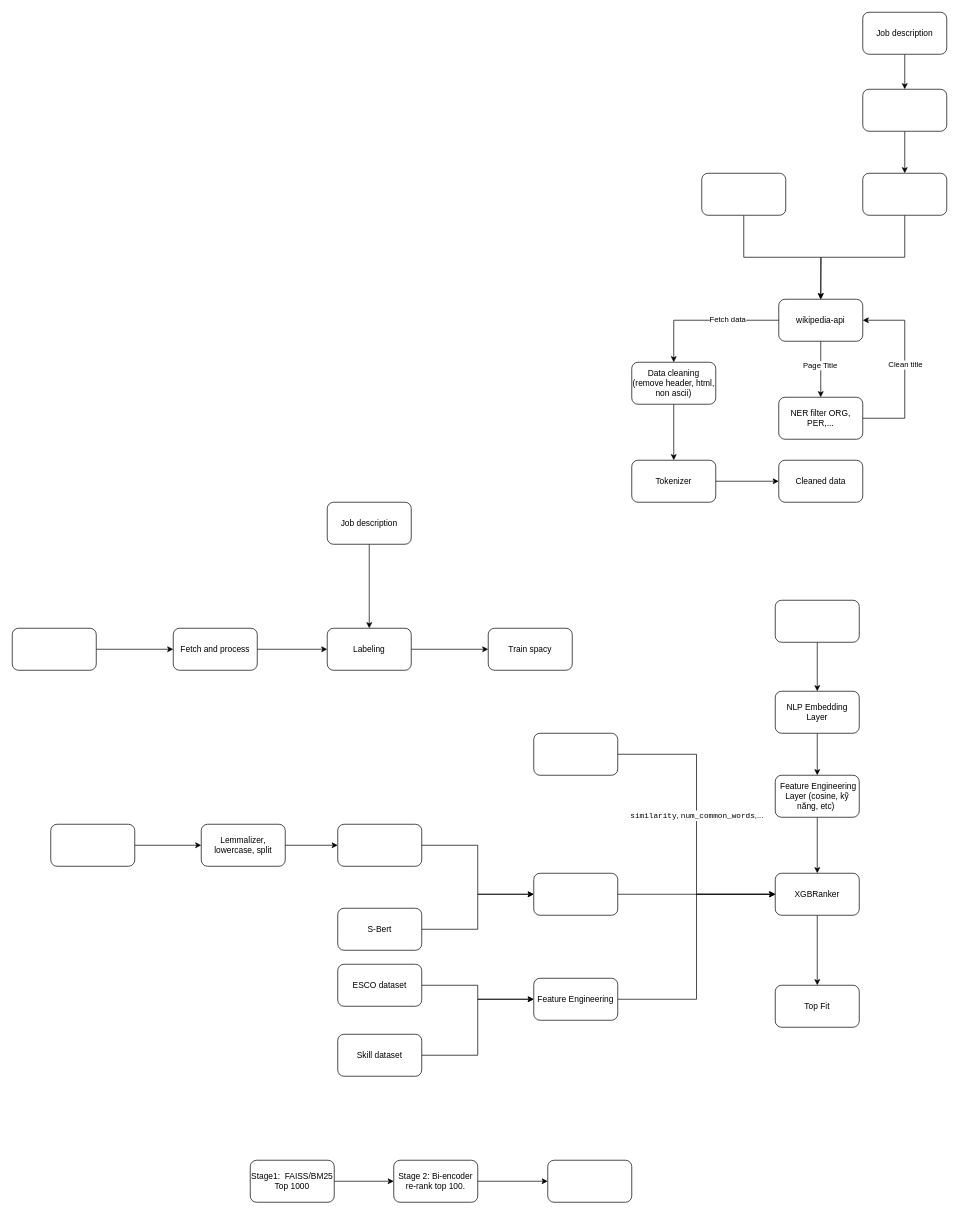
The diagram is 959 pixels wide and 1215 high, and some of its shapes have lost their labels. Here are the shapes that lost their labels. From the top down, the box of each, then its label:
(862, 89, 947, 131): n-grams
(701, 173, 786, 215): Job role
(862, 173, 947, 215): eliminate redundant data
(775, 600, 859, 642): CV-JD
(12, 628, 96, 670): Lightcast dataset
(533, 733, 618, 775): TF-IDF
(50, 824, 135, 866): DataSet
(337, 824, 422, 866): Train word embedding
(533, 873, 618, 915): Sentence Embeddings
(547, 1160, 632, 1202): Stage 3: Cross-encoder re-rank top 10.
